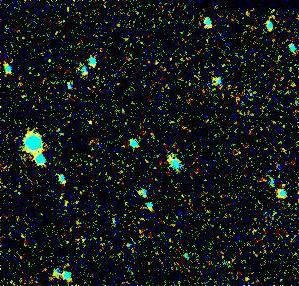star: (76, 109, 106, 139)
